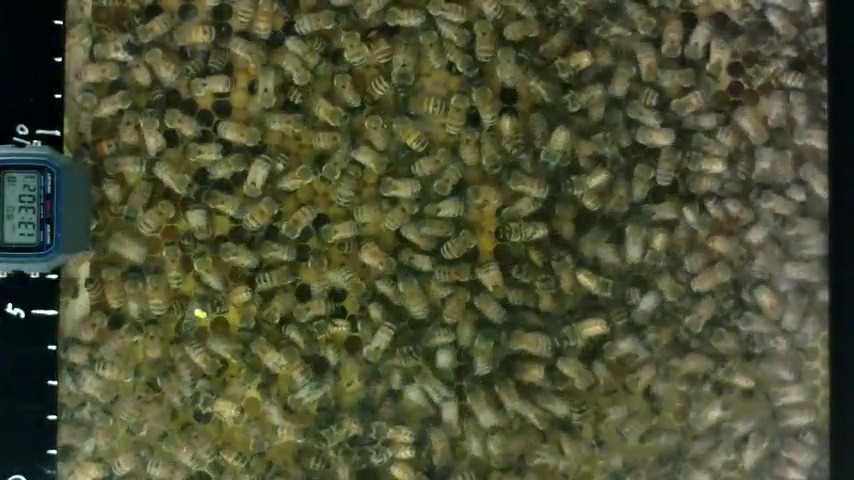hati: (175, 25, 215, 46)
